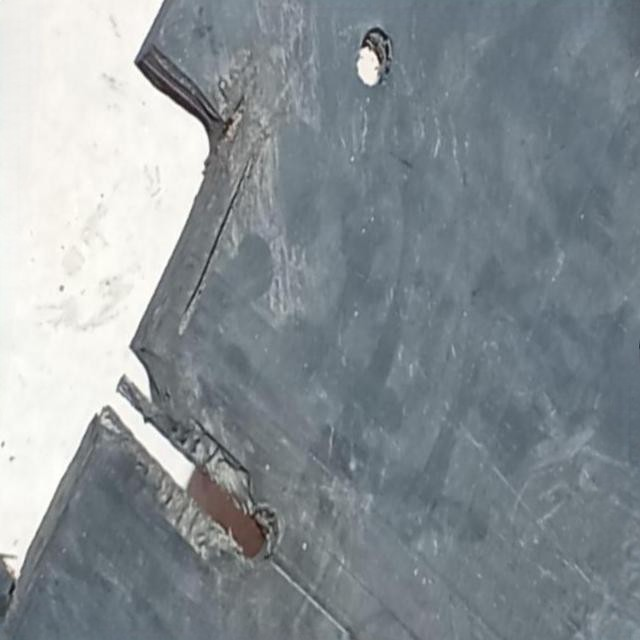Hole: (351, 23, 399, 97)
Tear: (0, 45, 286, 622), (172, 146, 260, 338)
